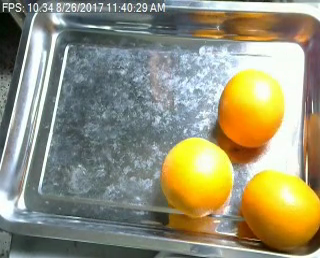Orange: (242, 169, 320, 251), (161, 137, 234, 216), (216, 72, 285, 147)
